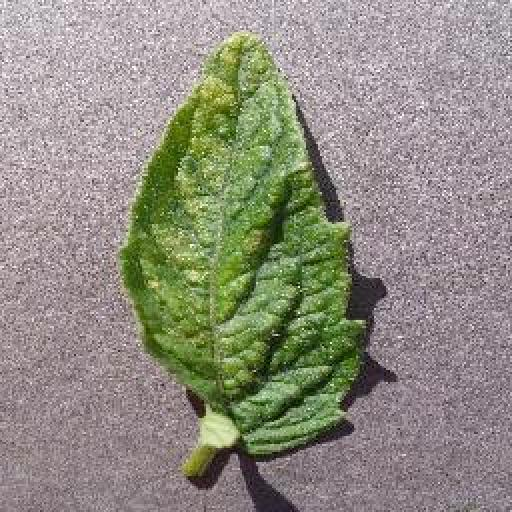disease_tomato: (118, 30, 374, 460)
